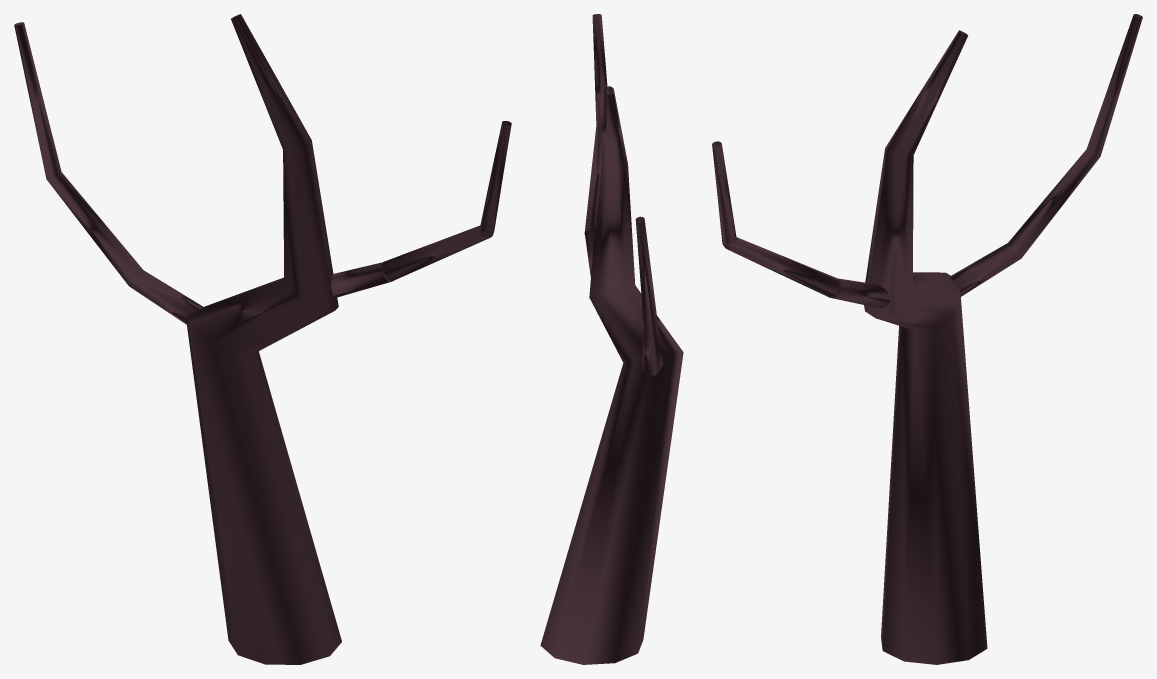
The model's file is tree_bare_3.glb.
The picture shows the model from 3 angles, left to right: view 1: azimuth 30°, elevation 25°; view 2: azimuth 150°, elevation 25°; view 3: azimuth 270°, elevation 25°; orthographic projection. The views are drawn at different scales.
Visible parts, largest first — view 1: tree_bare_3; view 2: tree_bare_3; view 3: tree_bare_3.
Part boxes in pixels (bbox=[...]): tree_bare_3: bbox=[14, 14, 511, 664]; tree_bare_3: bbox=[540, 14, 683, 664]; tree_bare_3: bbox=[712, 14, 1142, 664].
Size of the model in its own units: 2.54 by 5.5 by 3.59.
1 material, 1 textured.
